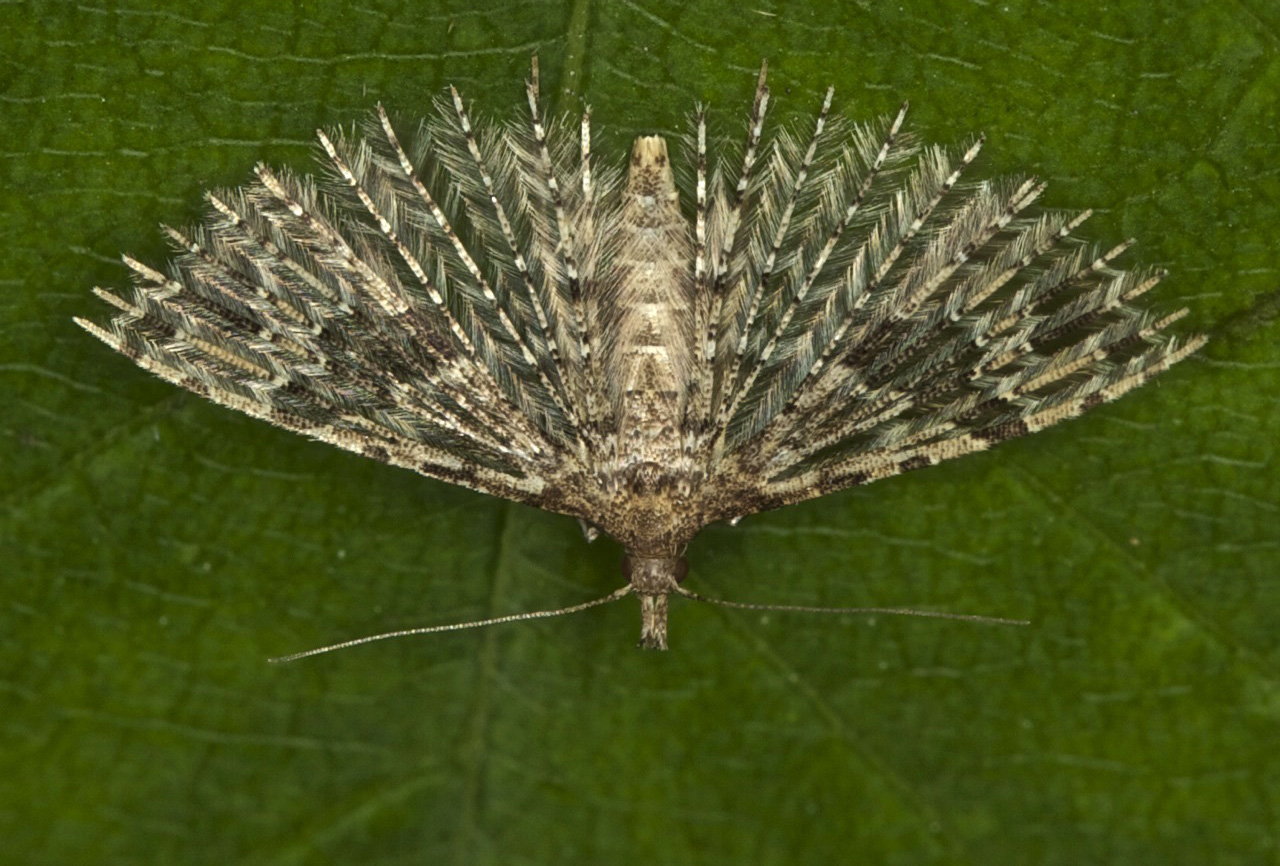Alucitidae: (55, 35, 1233, 670)
moth: (57, 37, 1235, 672)
